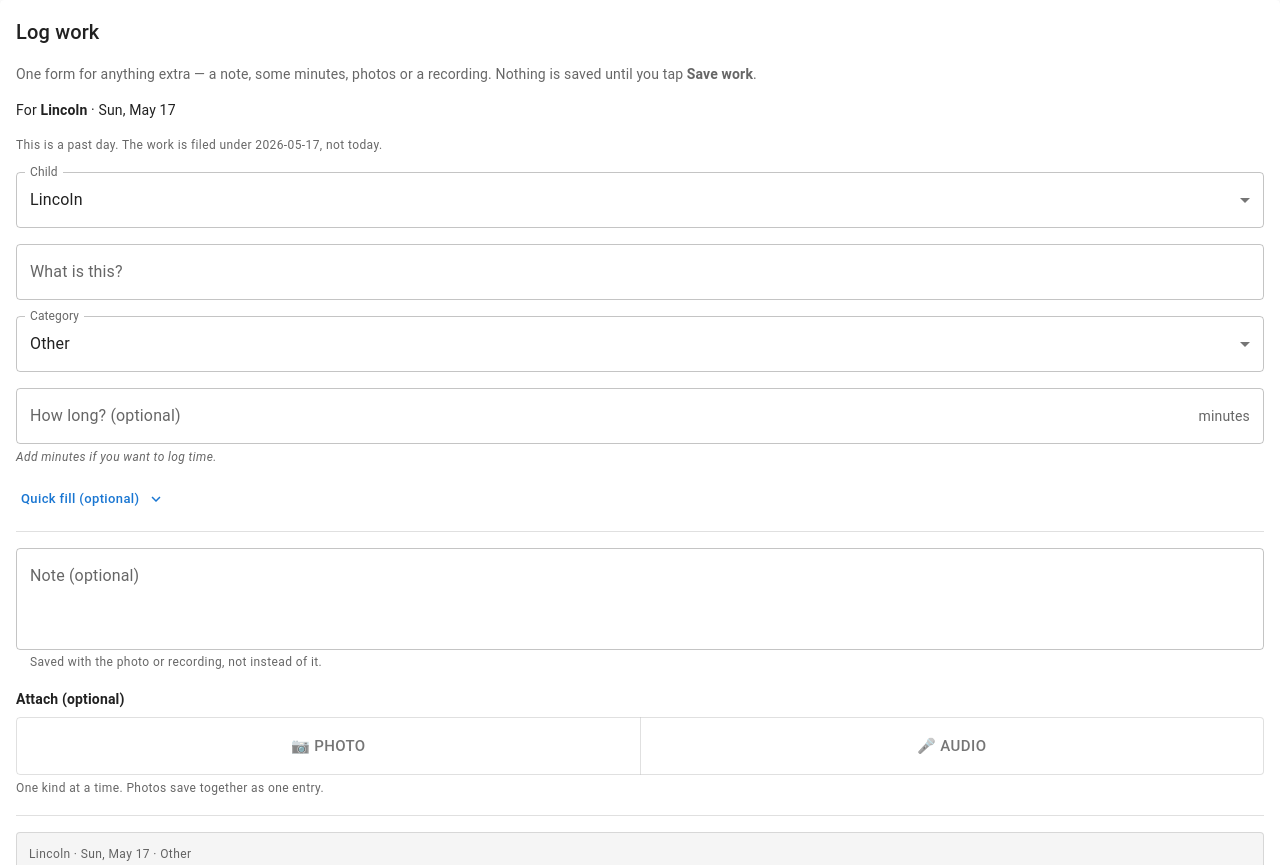
it: UnifiedCaptureCard (parent variant) › tapping the same quick fill again de-selects and clears the three fields
The image size is (1280, 865).
Click the button "Quick fill (optional)".
click(92, 499)  # box [16,484,168,515]
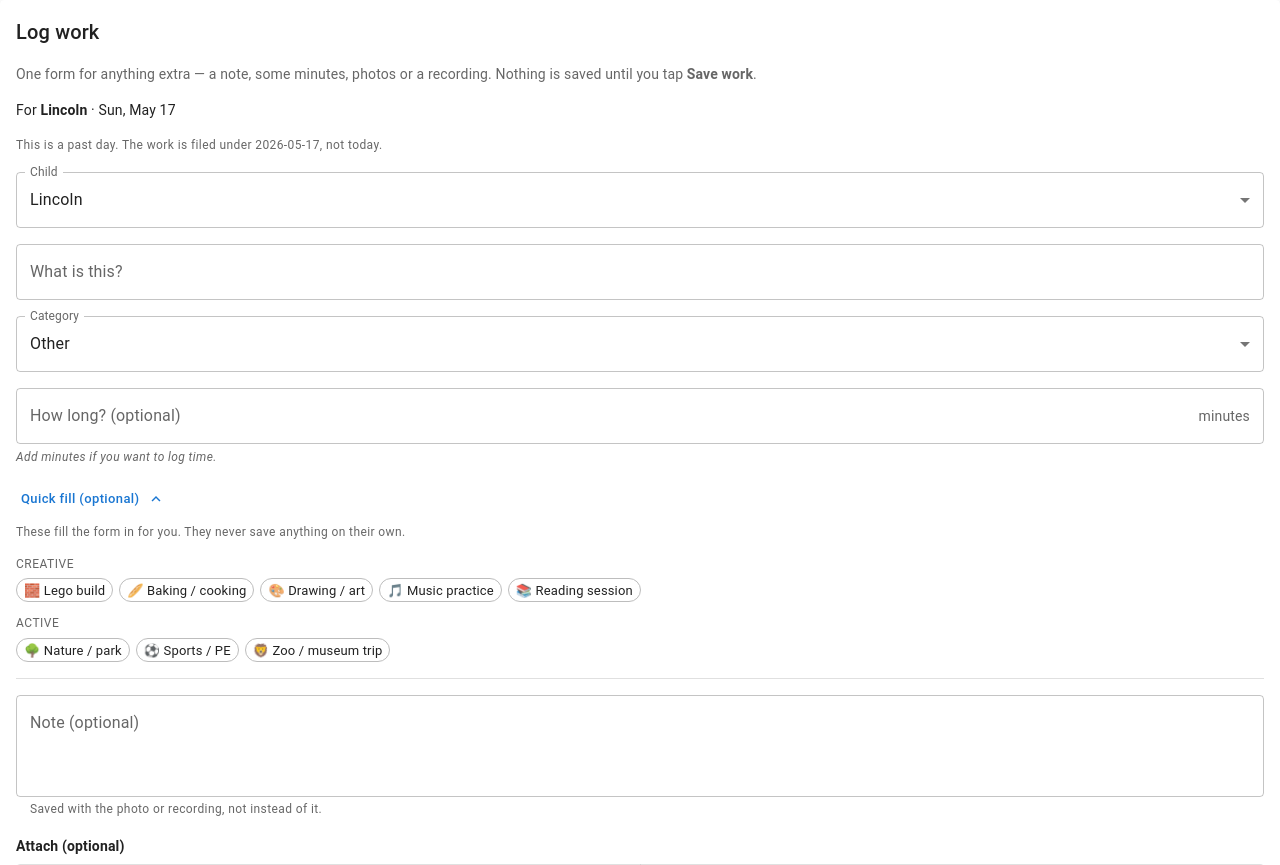
Click the button "🧱 Lego build".
click(65, 590)  # box [16,578,113,602]
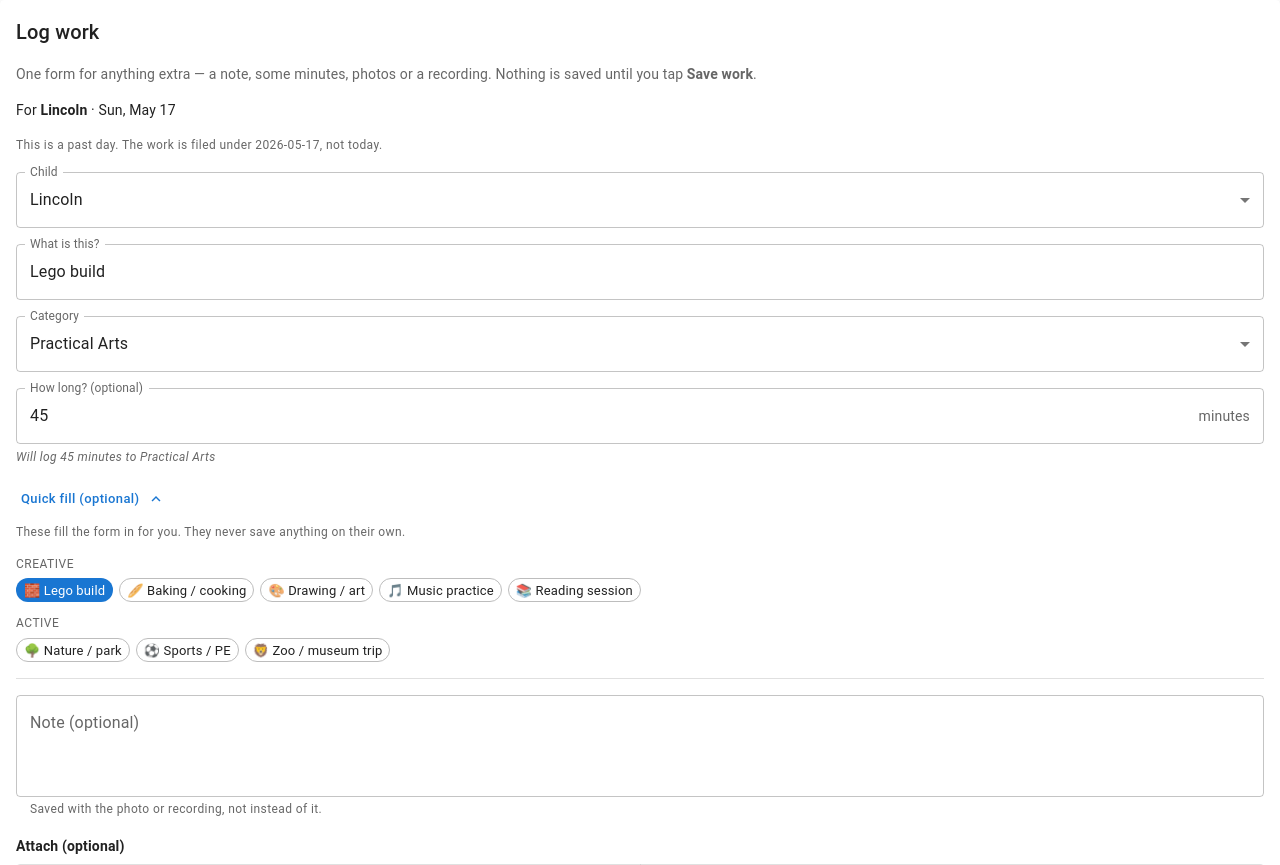
Click the button "🧱 Lego build".
click(65, 590)  # box [16,578,113,602]
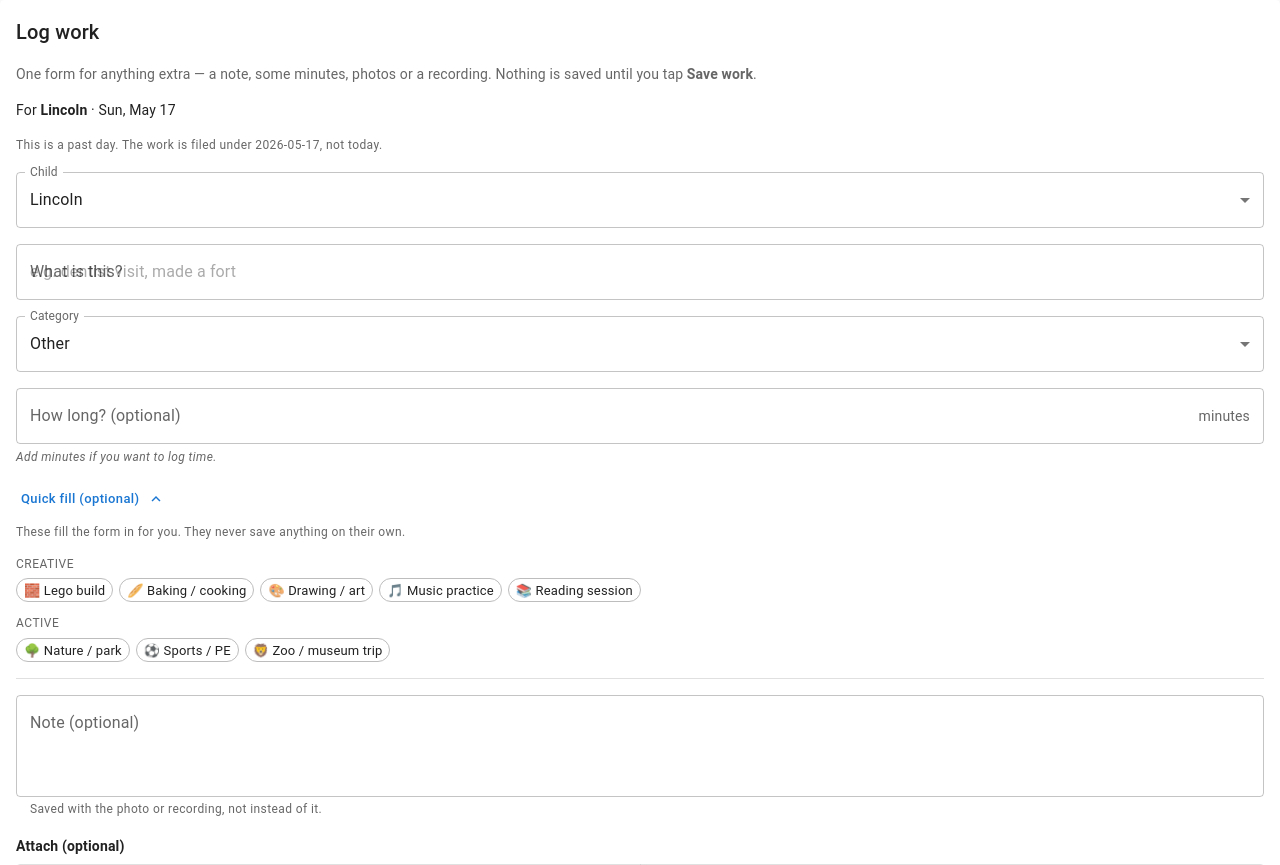
Now the field labelled "What is this?" is empty, box [16,244,1264,300]
Now the number field named "duration in minutes" is empty, box [16,388,1191,444]
Now the text "Add minutes if you want to log time." is shown, box [16,450,217,464]
